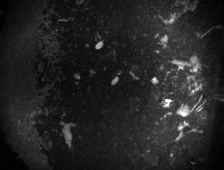corn: (91, 37, 107, 53), (108, 74, 121, 86), (70, 70, 84, 81)
